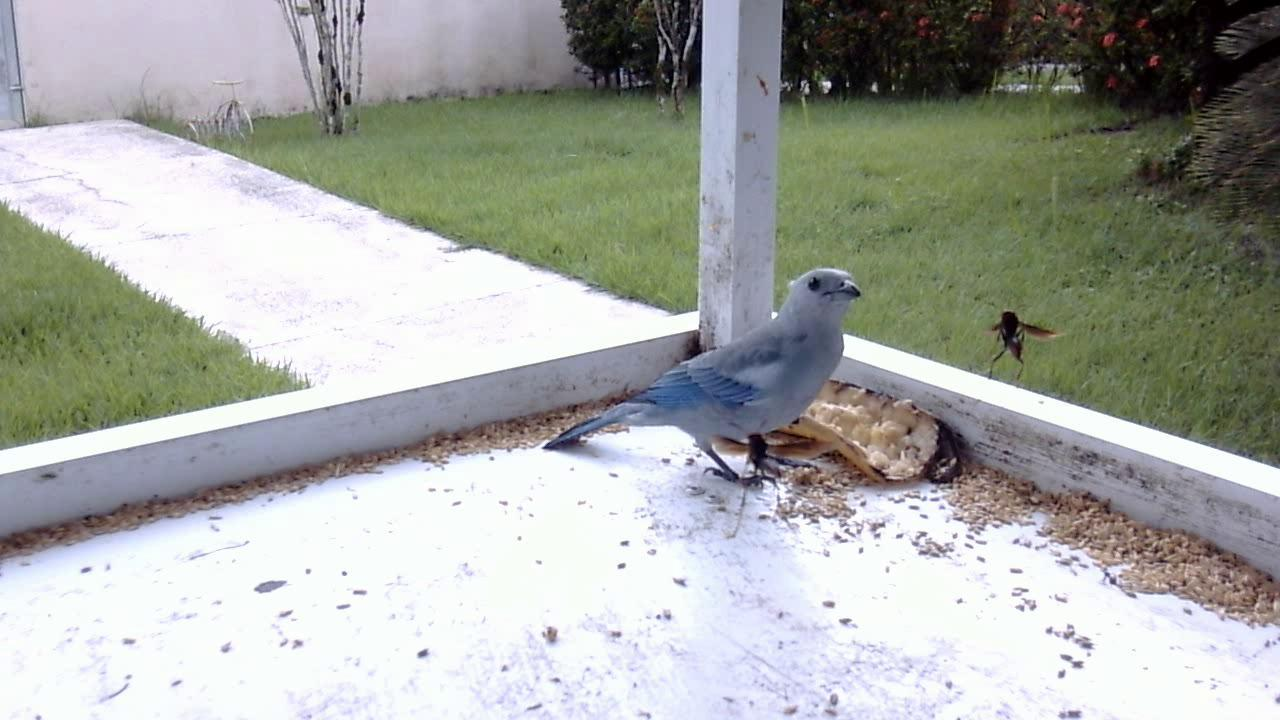sanhaco_da_amazonia: (542, 269, 870, 501)
